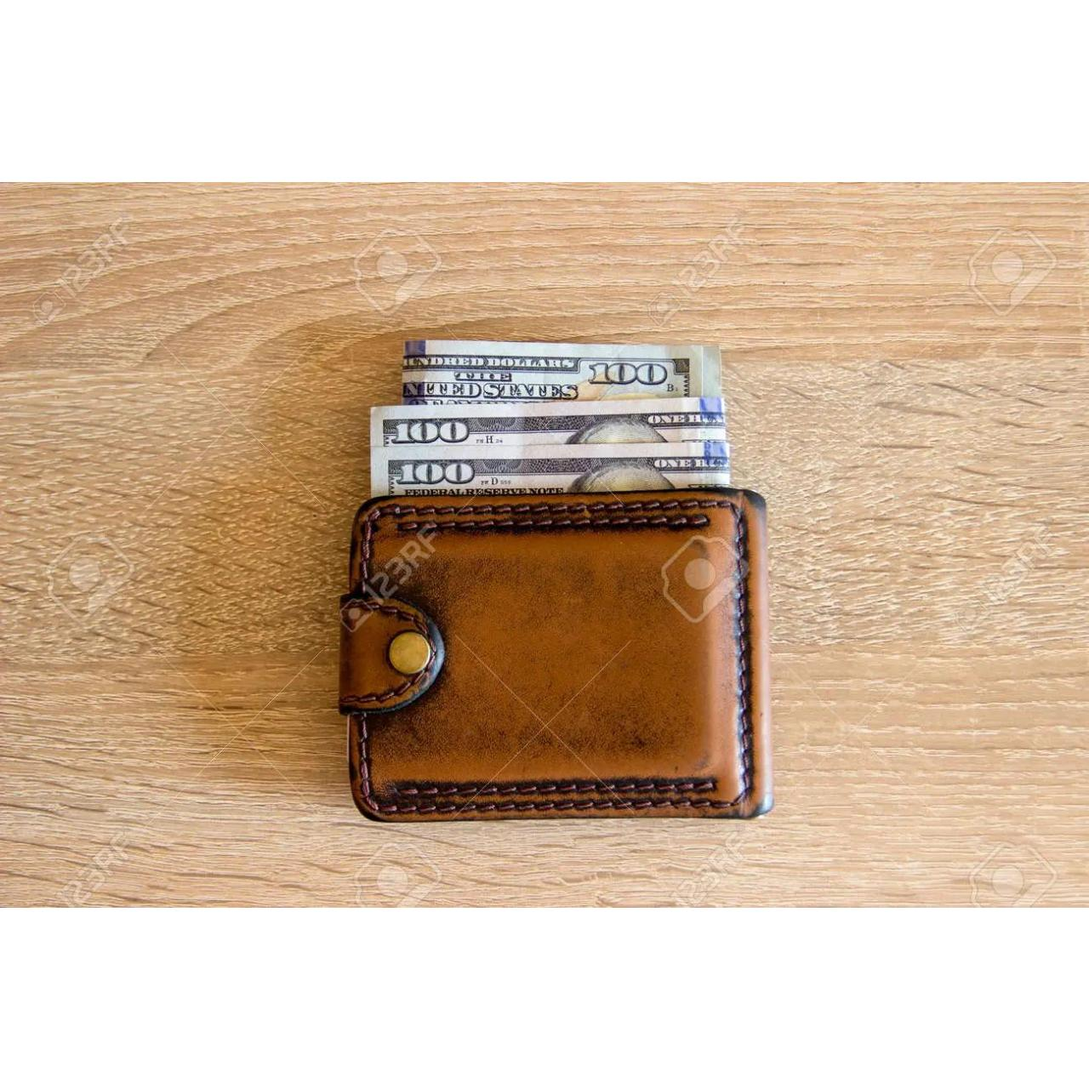wallet: (355, 495, 772, 817)
